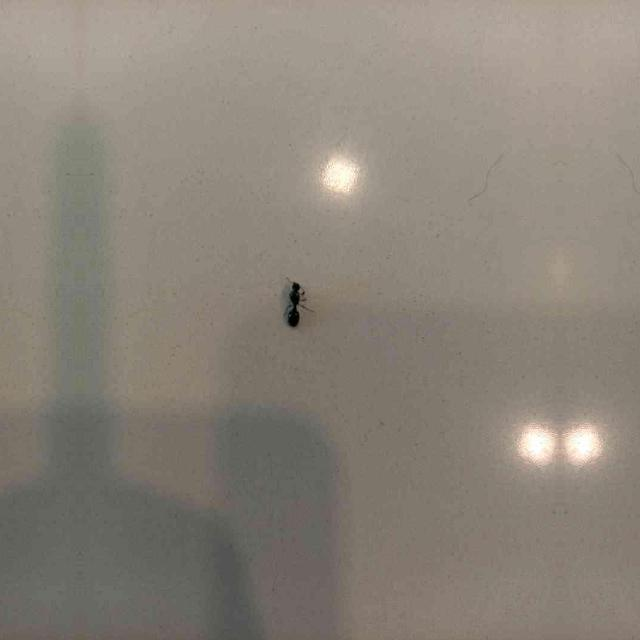Tetramorium: (280, 274, 306, 328)
